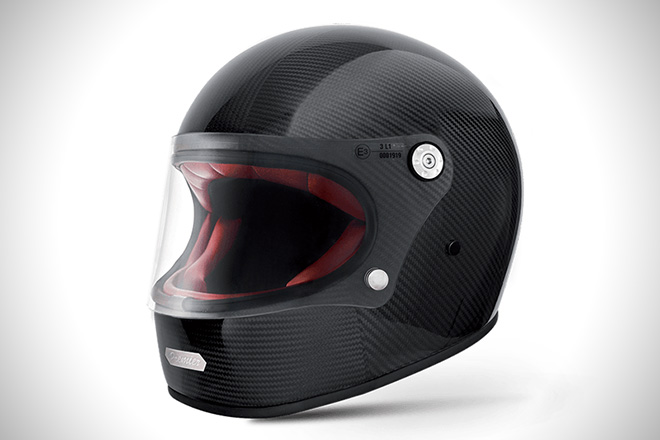with_helmet: (149, 23, 525, 420)
